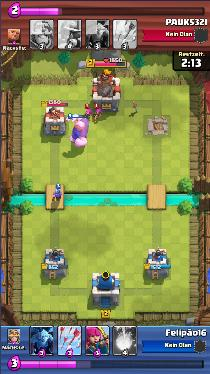ally_giant: (65, 114, 89, 147)
ally_musketeer: (49, 184, 61, 202)
enemy_archer: (84, 107, 93, 121), (93, 107, 101, 122)
